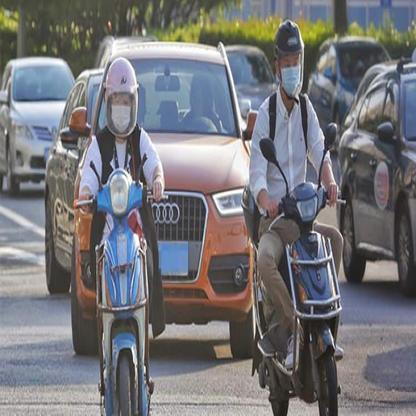target: (239, 20, 350, 413), (73, 55, 171, 411)
